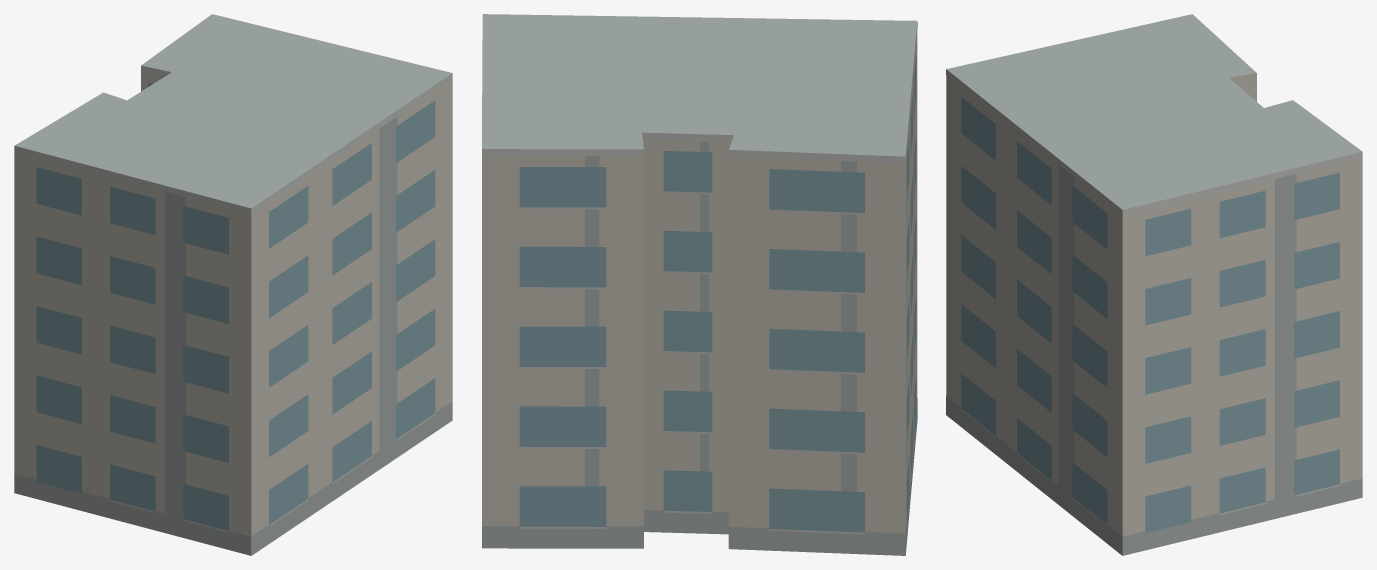
Rendered from survey-upis-32784297.glb.
The picture shows the model from 3 angles, left to right: view 1: azimuth 30°, elevation 25°; view 2: azimuth 150°, elevation 25°; view 3: azimuth 270°, elevation 25°; orthographic projection. The views are drawn at different scales.
Parts seen in each view (by area): view 1: survey-upis-32784297.tmp; view 2: survey-upis-32784297.tmp; view 3: survey-upis-32784297.tmp.
Boxes of the visible parts, <box> form: survey-upis-32784297.tmp: <box>14,14,452,555</box>; survey-upis-32784297.tmp: <box>482,14,917,555</box>; survey-upis-32784297.tmp: <box>946,14,1362,555</box>.
Bounding box in the file's own units: 16.52 × 13.6 × 14.84.
